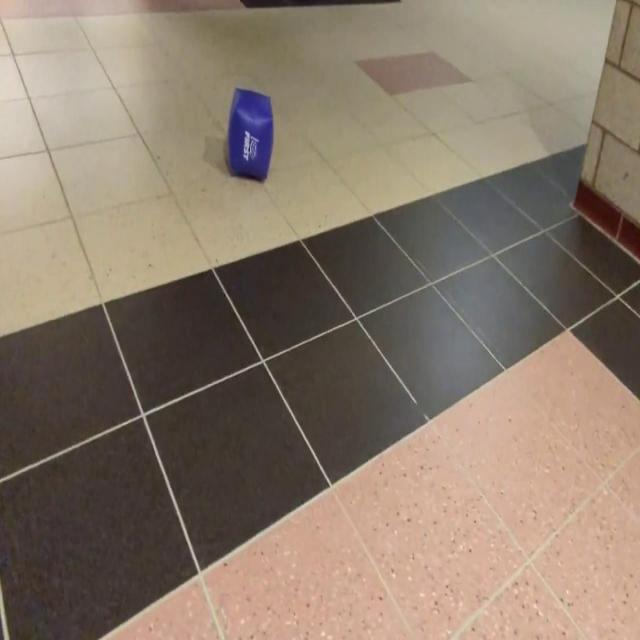frc_cube: (227, 88, 273, 173)
